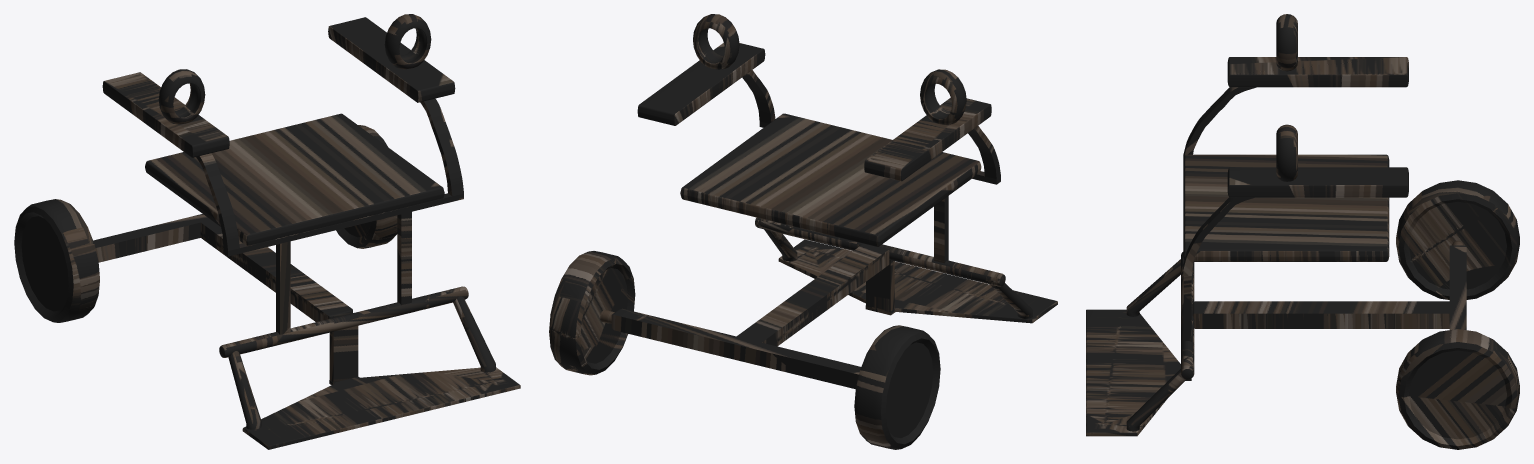
The model's file is HoldingChair.gltf.
The picture shows the model from 3 angles, left to right: view 1: azimuth 30°, elevation 25°; view 2: azimuth 150°, elevation 25°; view 3: azimuth 270°, elevation 25°; orthographic projection.
Parts seen in each view (by area): view 1: HoldingChair; view 2: HoldingChair; view 3: HoldingChair.
Boxes of the visible parts, box(x1,y1,x2,y2) form: HoldingChair: box(14, 14, 520, 449); HoldingChair: box(549, 14, 1057, 449); HoldingChair: box(1086, 14, 1519, 449).
Size of the model in its own units: 0.914 by 0.7905 by 1.02.
